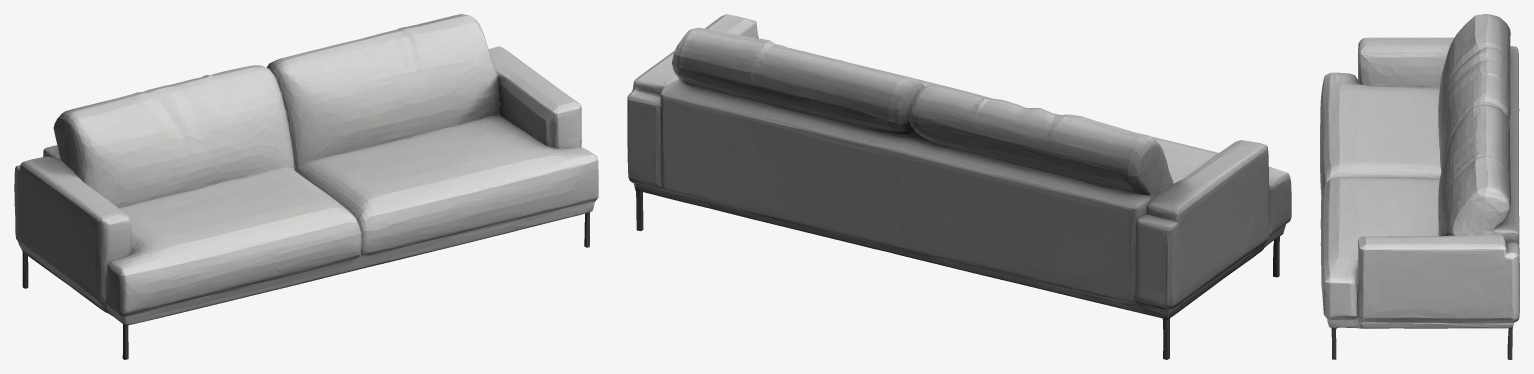
The model's file is ccfed4a2-c019-4f76-9677-48de839bc638.glb.
The picture shows the model from 3 angles, left to right: view 1: azimuth 30°, elevation 25°; view 2: azimuth 150°, elevation 25°; view 3: azimuth 270°, elevation 25°; orthographic projection. The views are drawn at different scales.
Parts seen in each view (by area): view 1: world; view 2: world; view 3: world.
Boxes of the visible parts, x1=… form: world: x1=14, y1=14, x2=598, y2=359; world: x1=627, y1=14, x2=1291, y2=359; world: x1=1320, y1=14, x2=1519, y2=359.
Bounding box in the file's own units: 0.9963 × 0.3539 × 0.3986.
1 material, 1 textured.
